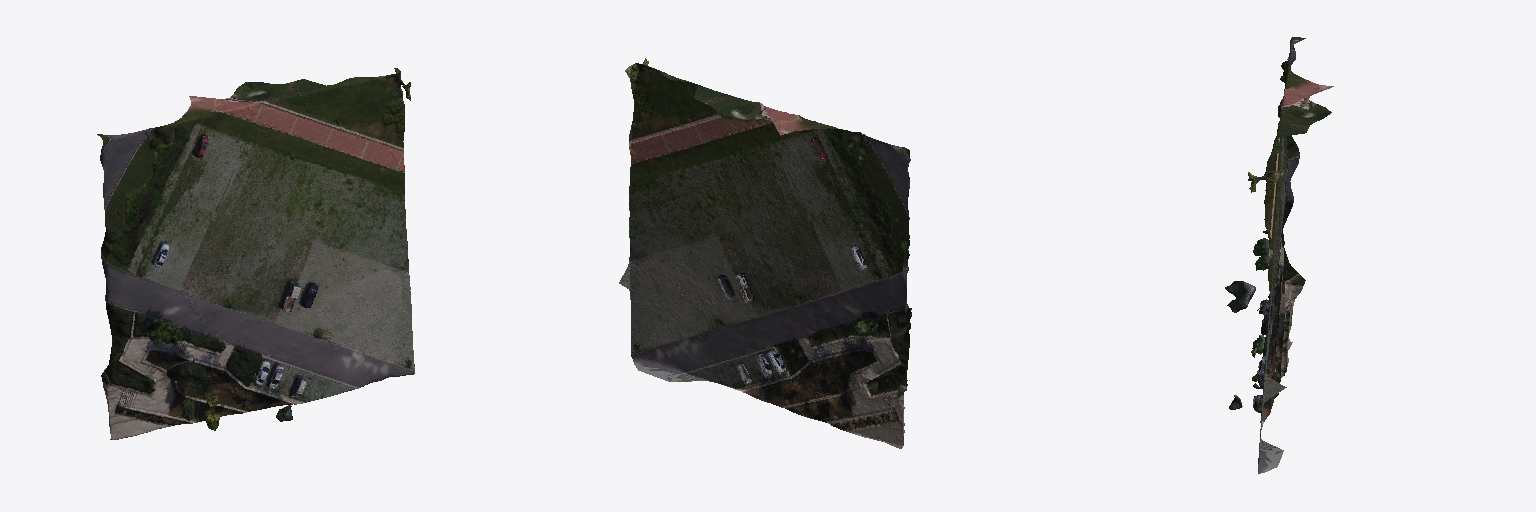
3 renders of one model, left to right at view 1: azimuth 30°, elevation 25°; view 2: azimuth 150°, elevation 25°; view 3: azimuth 270°, elevation 25°, orthographic.
Size of the model in its own units: 61.65 by 61.43 by 19.68.
2 materials, 1 textured.